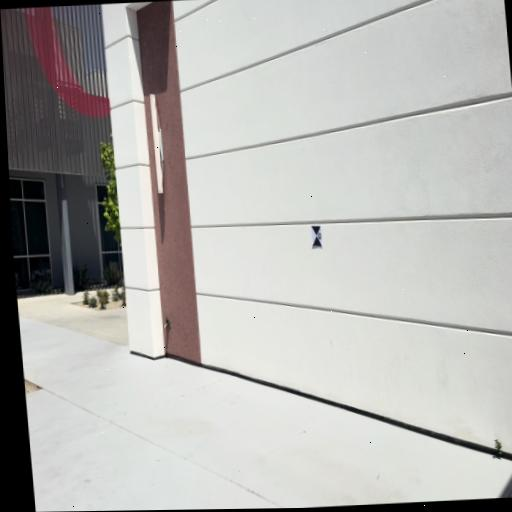target0: (310, 224, 322, 247)
